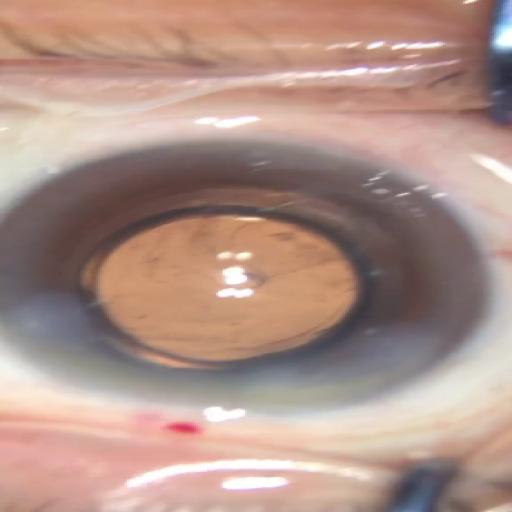cornea: (0, 137, 495, 407)
pupil: (67, 210, 363, 371)
